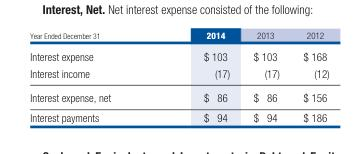table: (29, 29, 328, 122)
table column: (29, 29, 156, 122), (156, 29, 241, 122), (241, 29, 290, 122), (290, 29, 328, 122)
table column header: (29, 29, 328, 44)
table row: (29, 85, 328, 107), (29, 64, 328, 85), (29, 44, 328, 64), (29, 29, 328, 44), (29, 107, 328, 122)
